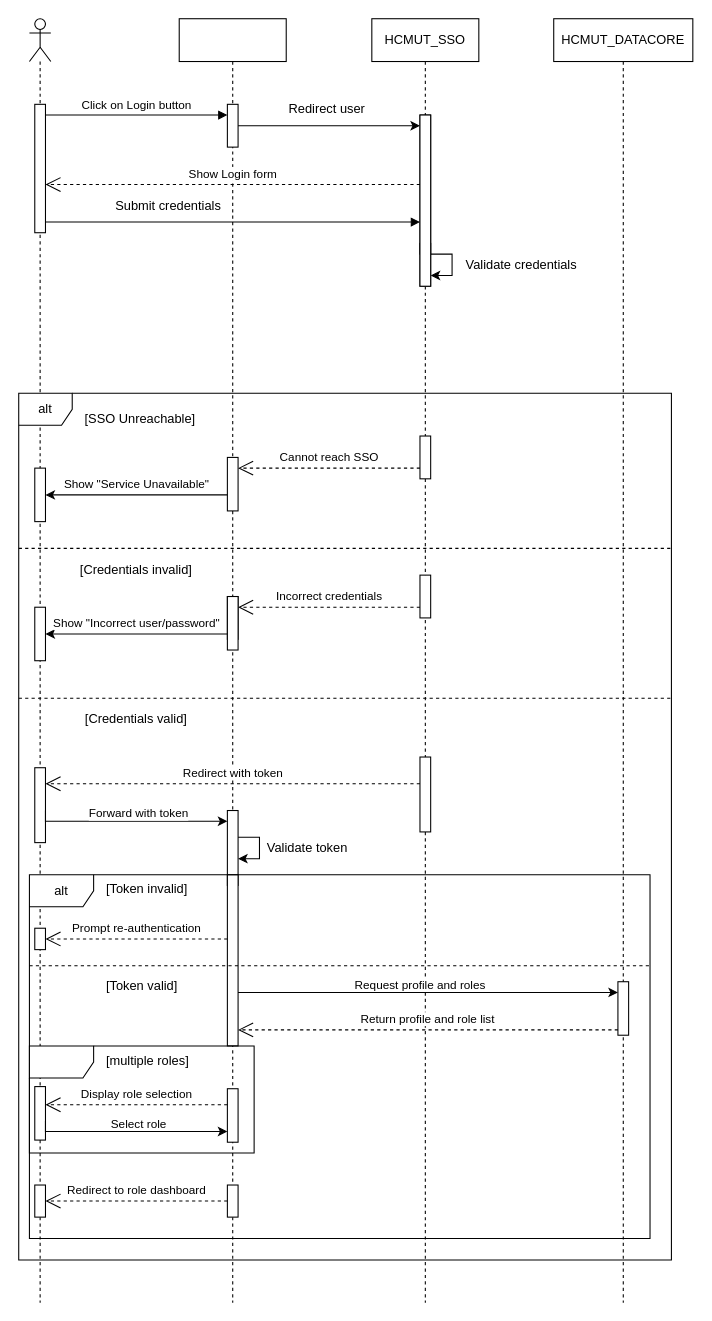
Image size: 712x1321. Some labels were removed from this diagram. The box of each missing label's shape, as (x1, y1, x2, y2) in pixels:
opt: (28, 1045, 254, 1153)
System: (178, 18, 286, 1303)
